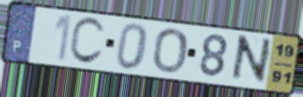0: (114, 22, 150, 72)
1: (51, 13, 73, 64)
8: (198, 33, 230, 79)
C: (67, 16, 107, 67)
N: (228, 34, 275, 87)
O: (151, 27, 190, 75)
